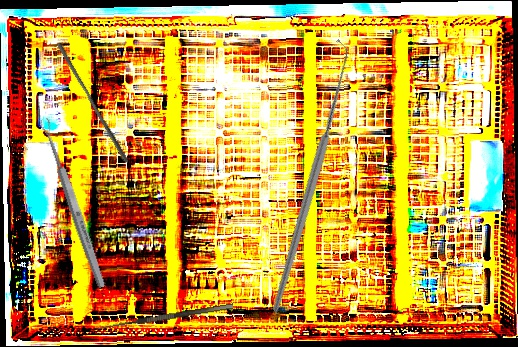Hook Surgical: (169, 39, 446, 314), (92, 303, 235, 339)
Pusher: (52, 41, 134, 165)
Surgical Spoon: (38, 116, 108, 290)
